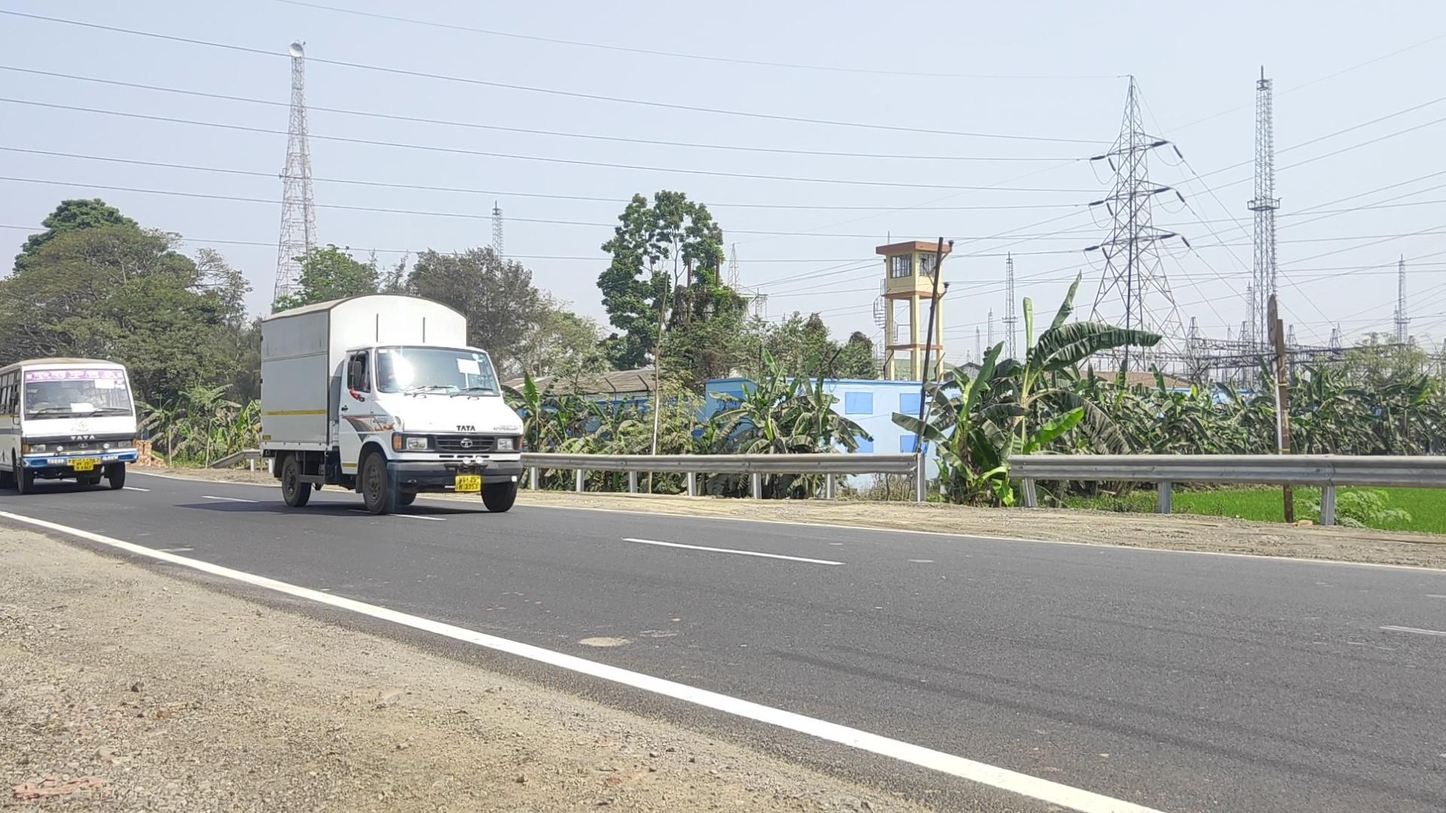Bus: (1, 357, 139, 495)
truck: (260, 293, 524, 516)
